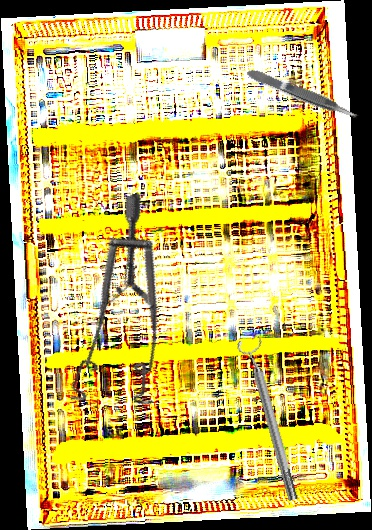Fixation Ring: (235, 335, 306, 504)
Speculum: (9, 191, 212, 431)
Tissue Forceps: (244, 64, 362, 125)
